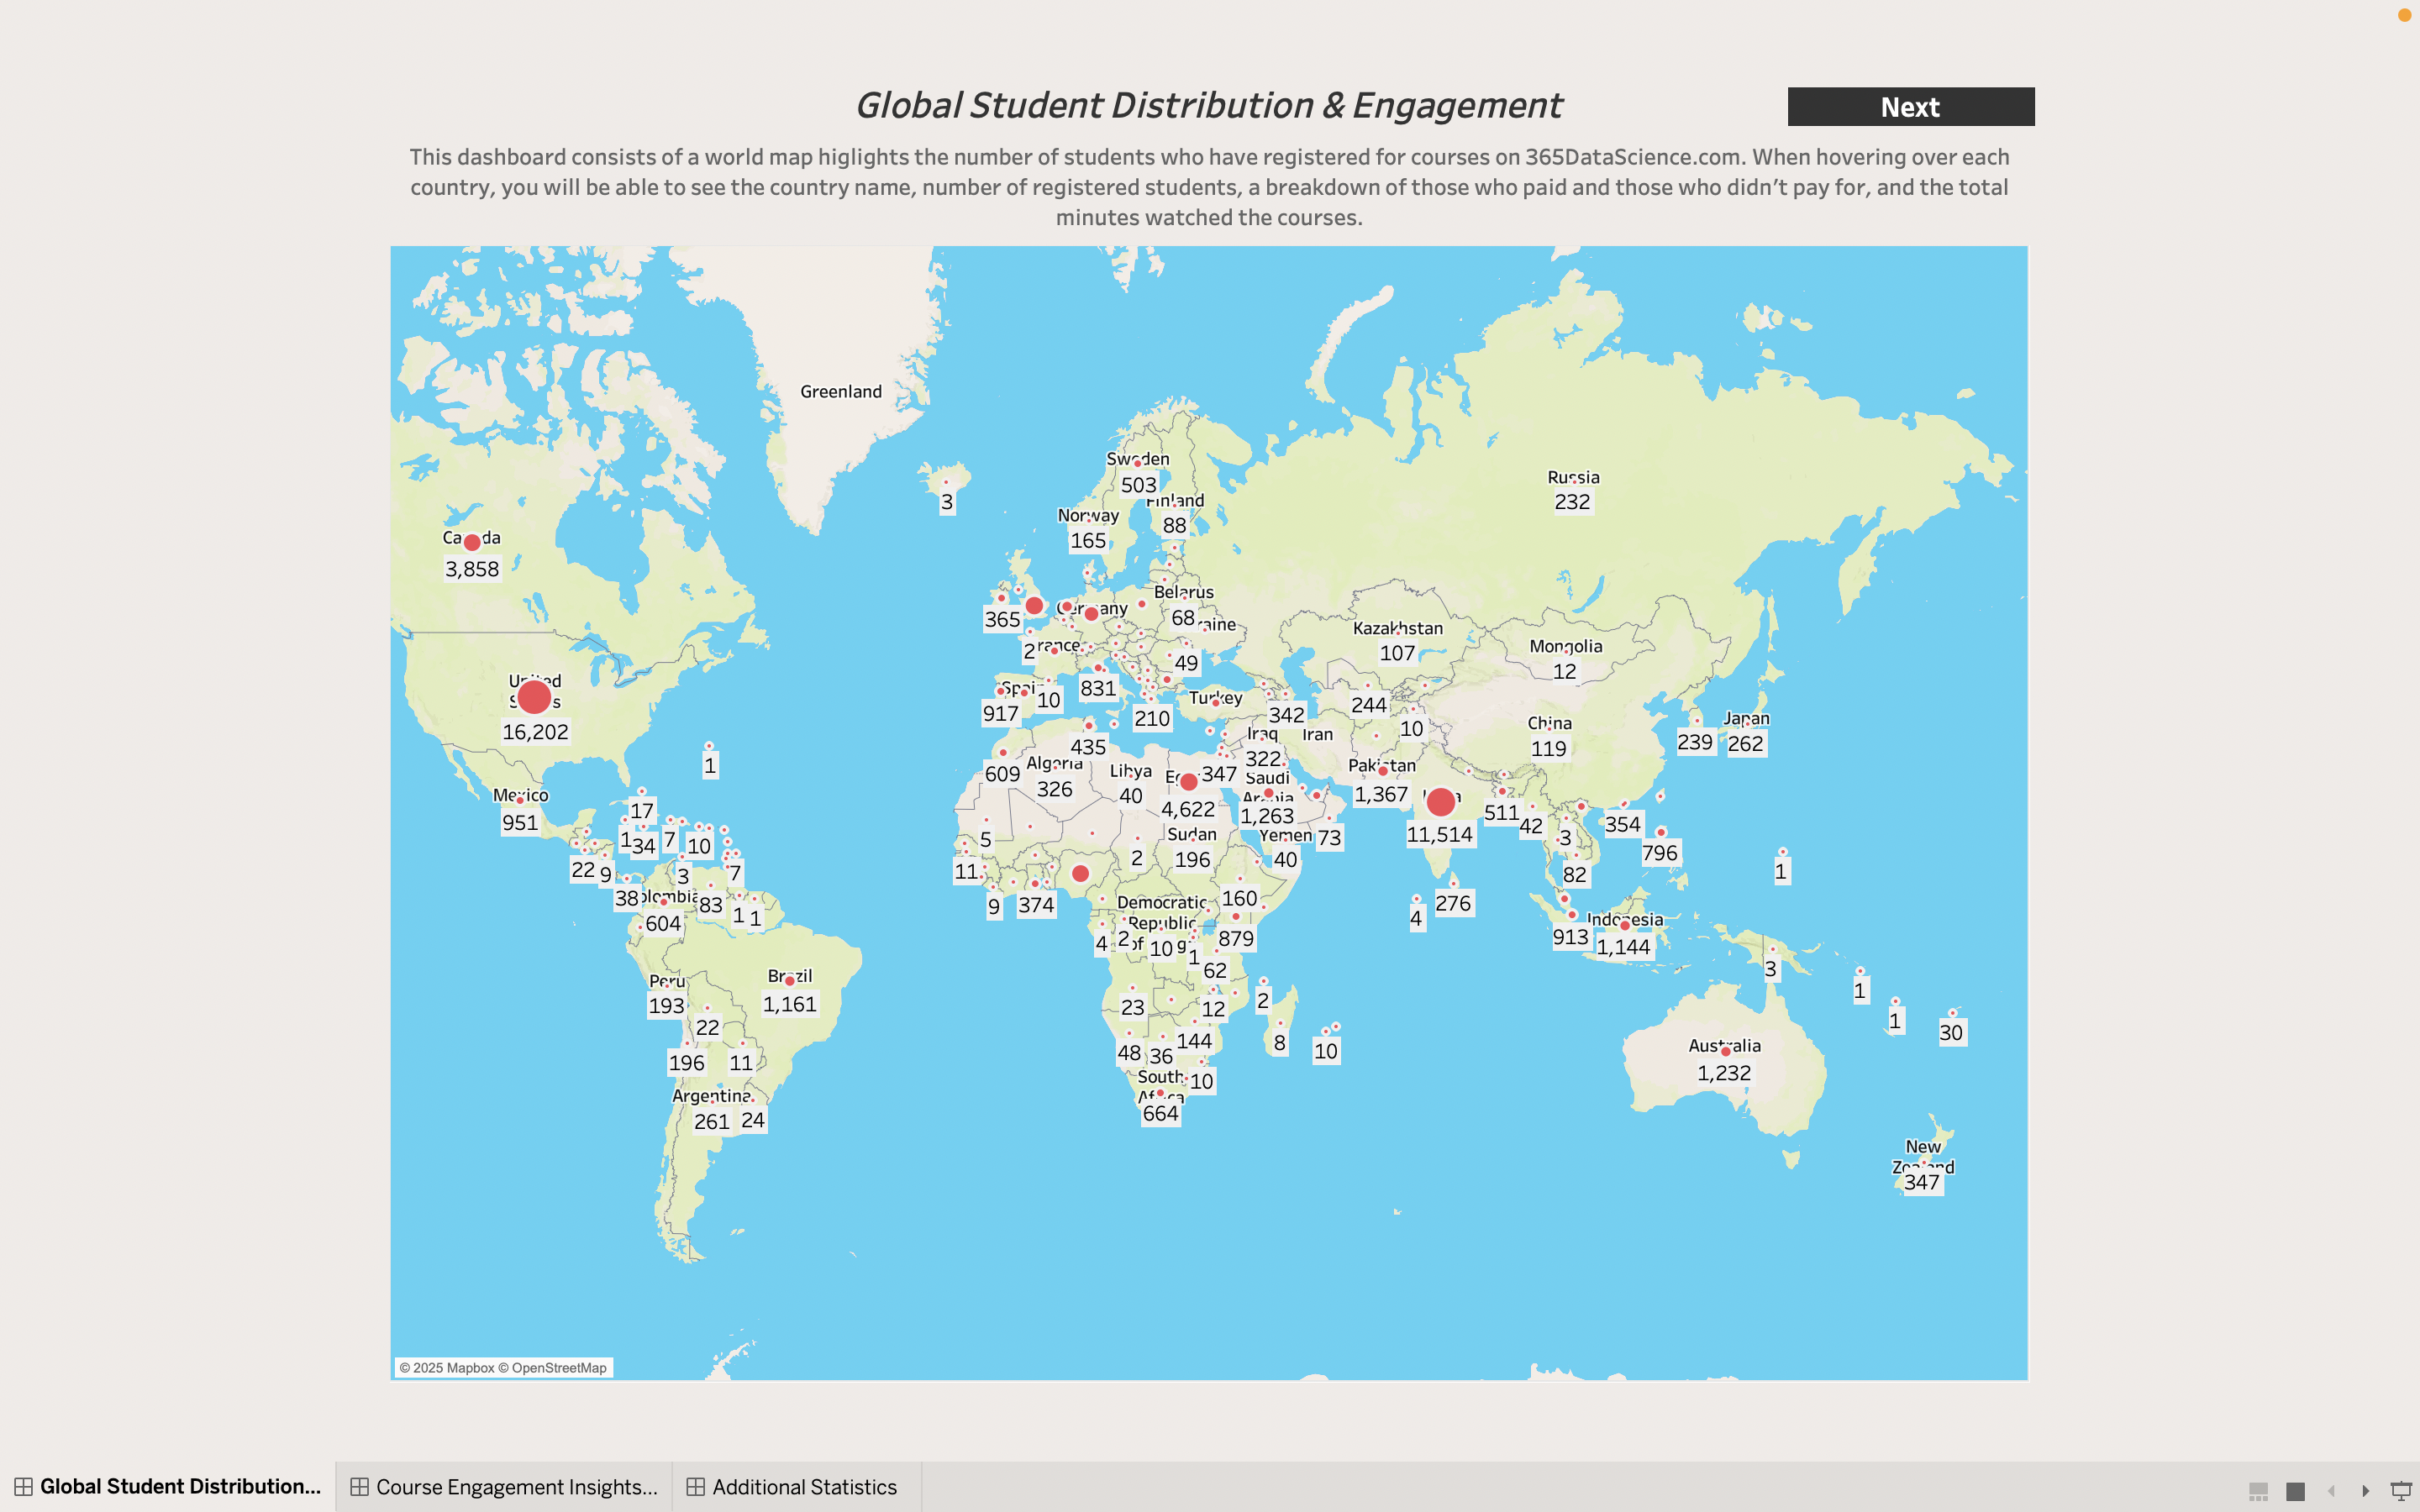

This screenshot's page, from the dashboard's own definition file:
{"tool":"tableau","page":{"name":"Global Student Distribution & Engagement","canvas":[1000,800],"ordinal":2},"visuals":[{"type":"title","box":[8,8,984,37]},{"type":"dashboard-object","box":[844,17,147,23]},{"type":"text","box":[8,45,984,62]},{"type":"worksheet","title":"Registered Students Per Country","mark":"Automatic","box":[8,107,984,685]}]}

Visuals, with their boxes on the page's 1000x800 design canvas (x1, y1, x2, y2). These are canvas units, not pixel positions in the 2420x1512 screenshot, which may show the page scaled, cropped or inside an application window:
title: [left=8, top=8, right=992, bottom=45]
dashboard-object: [left=844, top=17, right=991, bottom=40]
text: [left=8, top=45, right=992, bottom=107]
"Registered Students Per Country" worksheet: [left=8, top=107, right=992, bottom=792]
